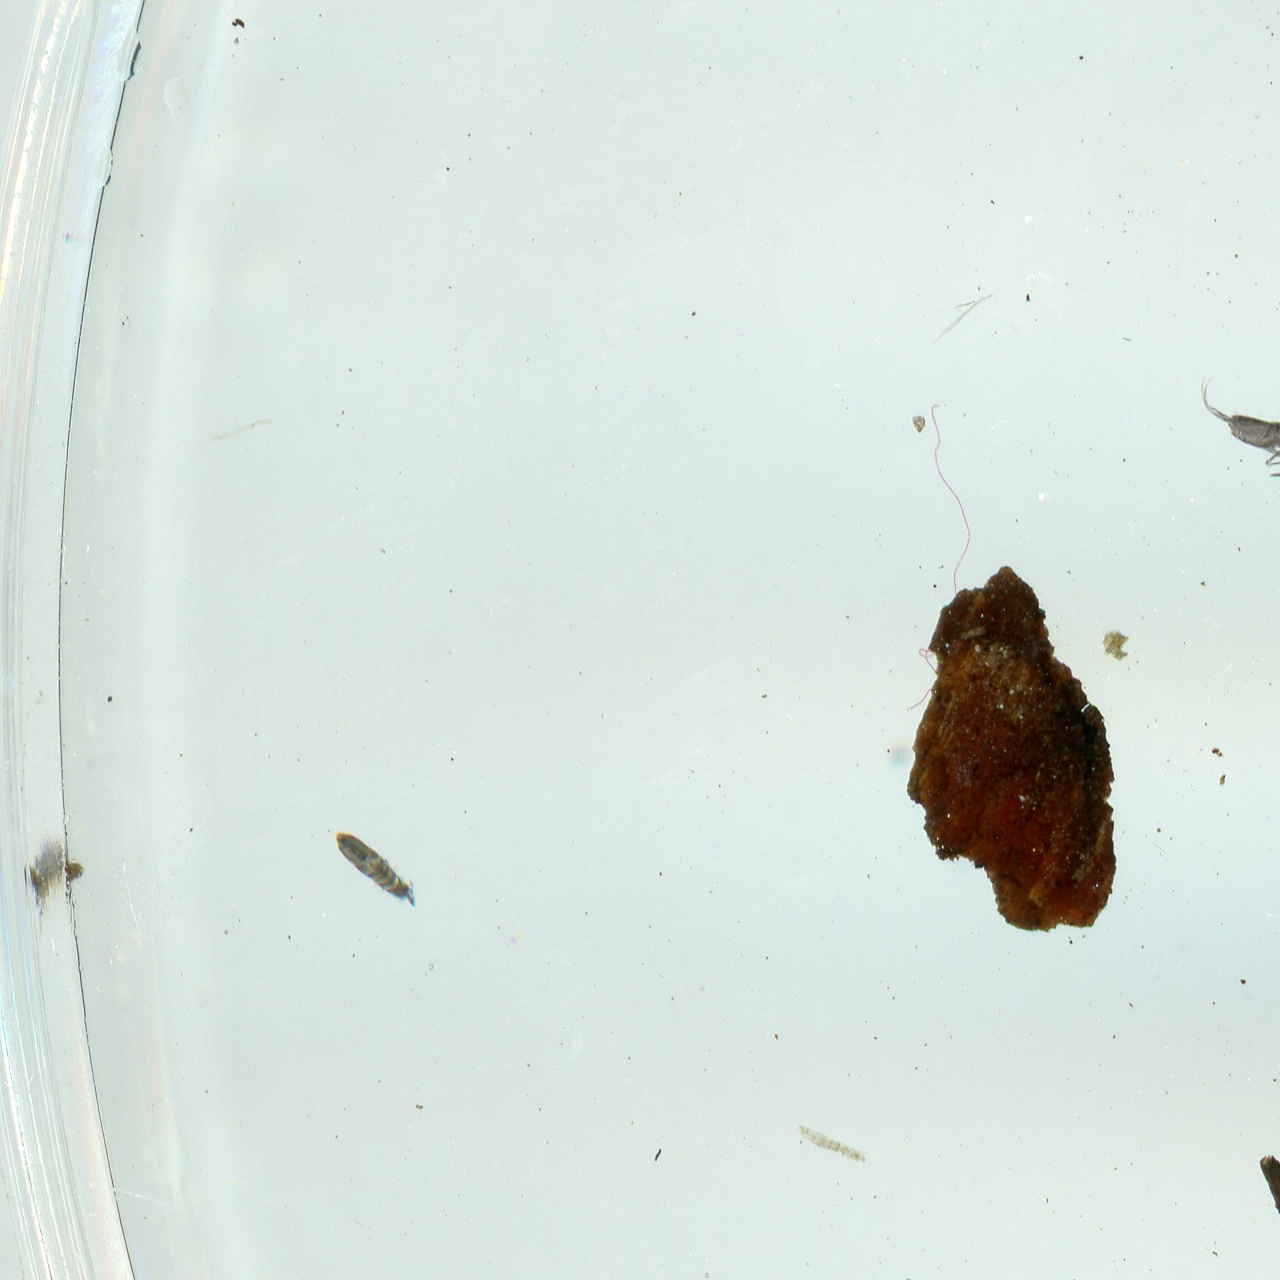arthropod: (319, 813, 435, 926), (1192, 374, 1280, 483)
